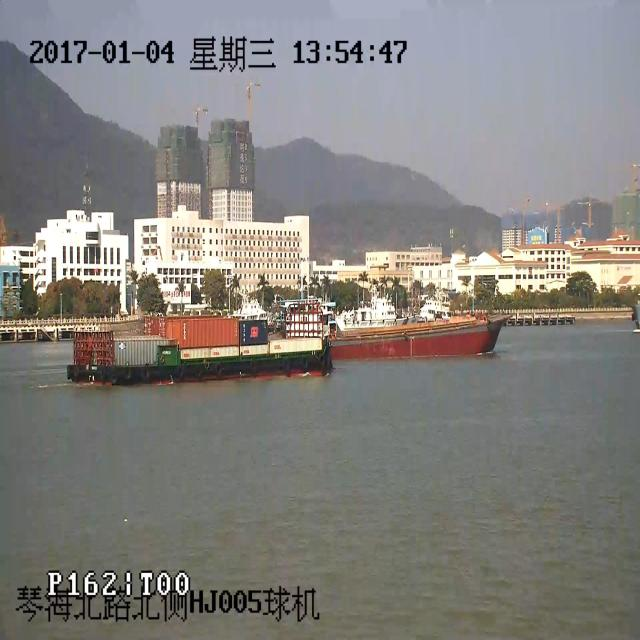cargoship: (65, 299, 331, 389), (333, 296, 511, 354)
